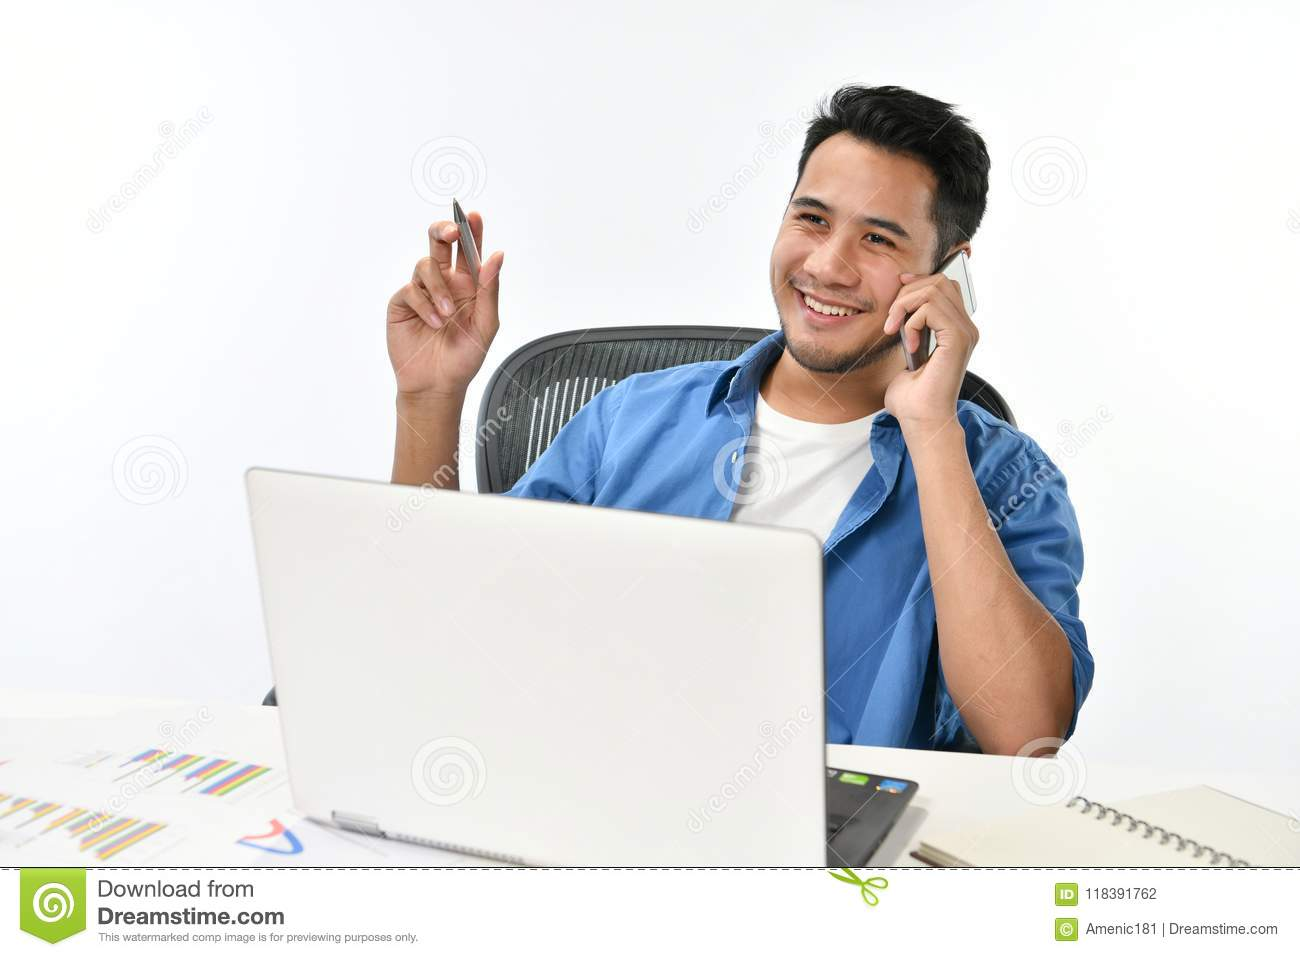phone: (898, 245, 979, 380)
talk: (777, 186, 981, 443)
